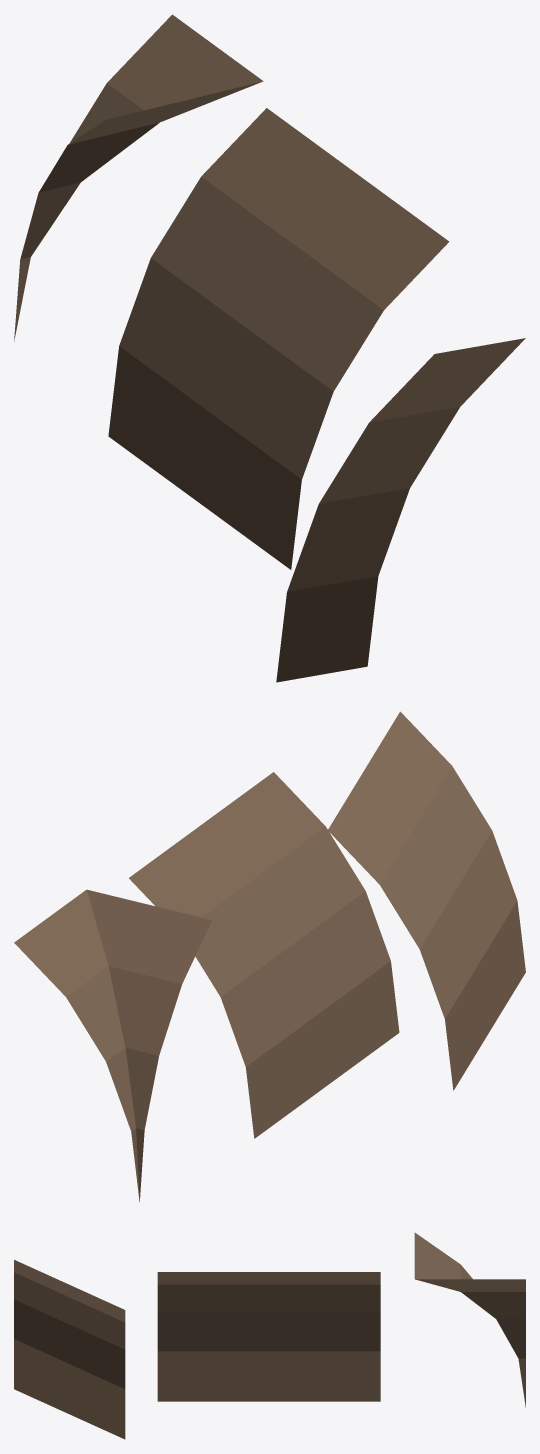
File: ceiling.fbx
3 views of the same model, one above another, from view 1: azimuth 30°, elevation 25°; view 2: azimuth 150°, elevation 25°; view 3: azimuth 270°, elevation 25° (orthographic). The views are drawn at different scales.
Visible parts, largest first — view 1: ceiling_flat, ceiling_stairs, ceiling_corner; view 2: ceiling_flat, ceiling_stairs, ceiling_corner; view 3: ceiling_flat, ceiling_stairs, ceiling_corner.
Part boxes in pixels (x1,y1,x2,y2): ceiling_flat: (108,108,449,569); ceiling_stairs: (276,338,525,682); ceiling_corner: (14,14,263,341); ceiling_flat: (129,772,399,1138); ceiling_stairs: (328,711,525,1090); ceiling_corner: (14,889,211,1201); ceiling_flat: (157,1272,380,1401); ceiling_stairs: (14,1260,125,1439); ceiling_corner: (414,1232,525,1407).
Size of the model in its own units: 284 by 450 by 919.
